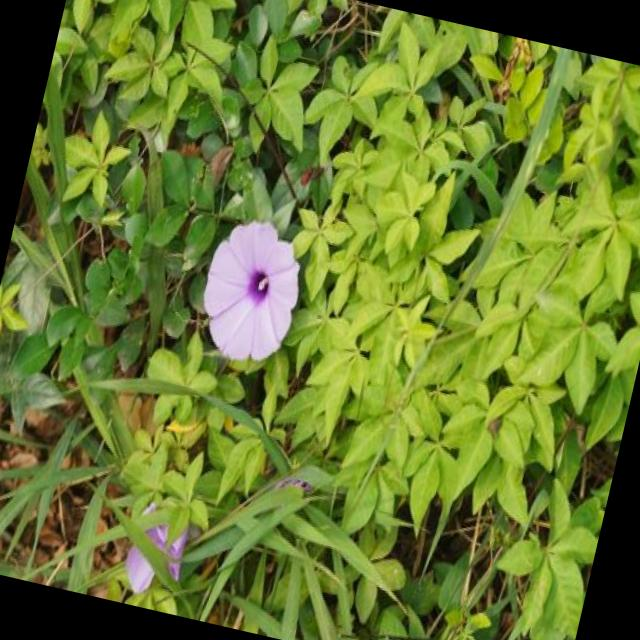ipomoea: (185, 207, 316, 376), (112, 493, 198, 608)
